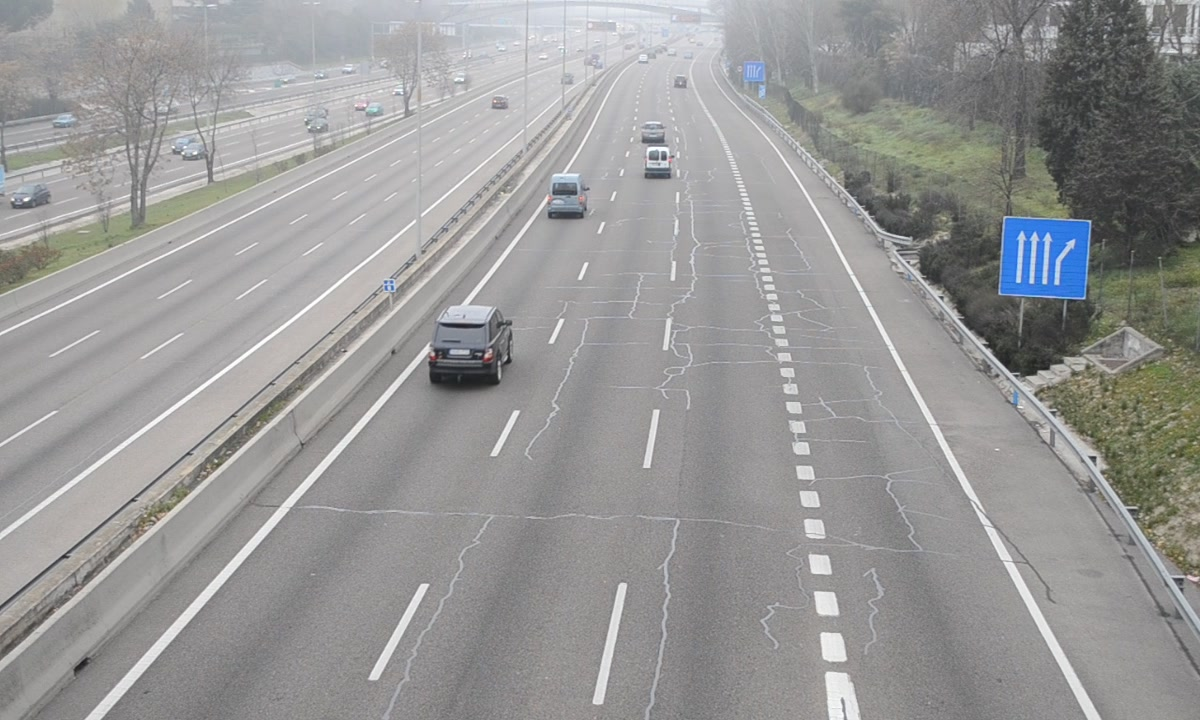car: (428, 307, 512, 381)
van: (547, 173, 588, 217), (643, 144, 673, 181)
